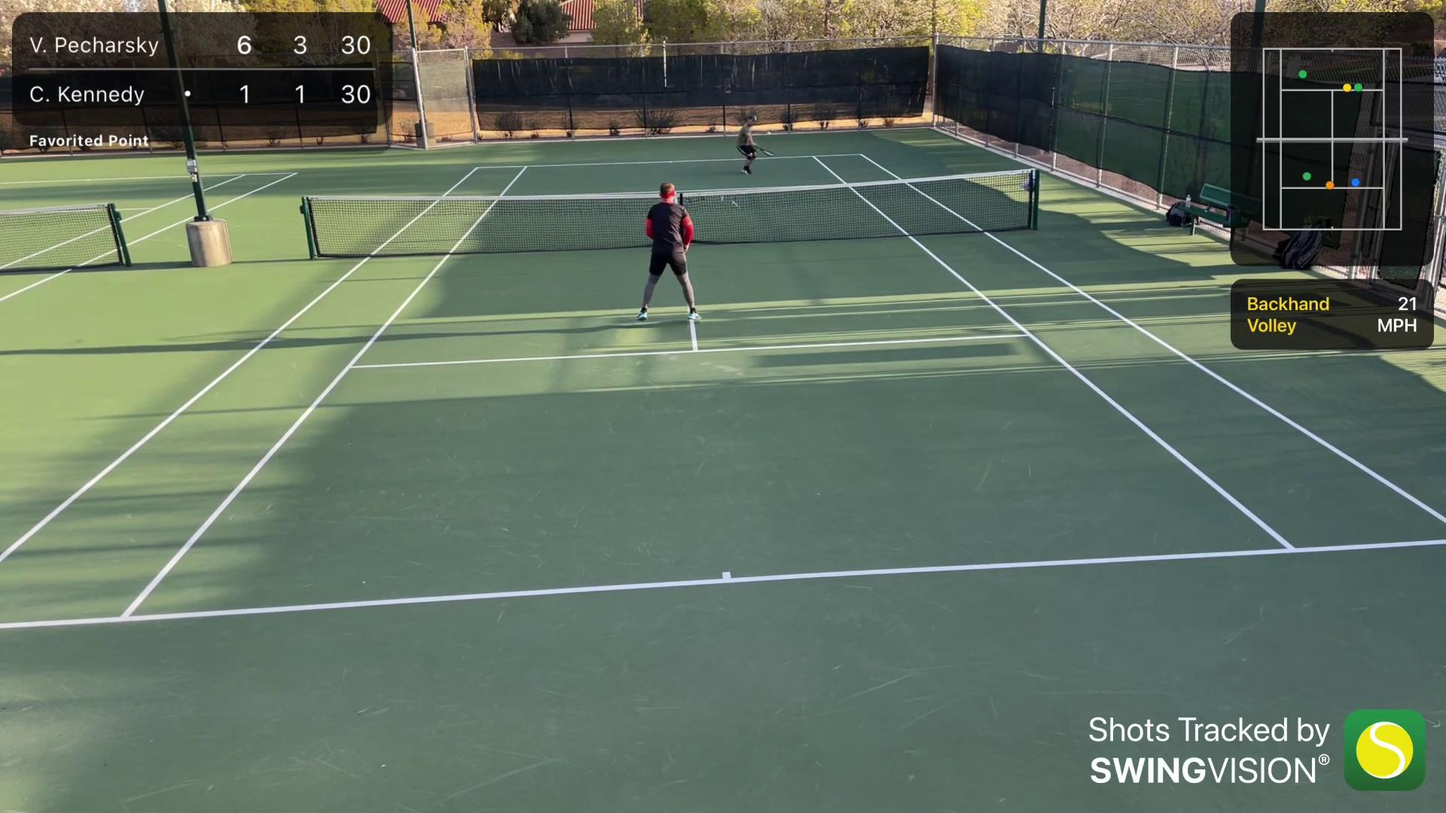ball: (766, 130, 772, 137)
